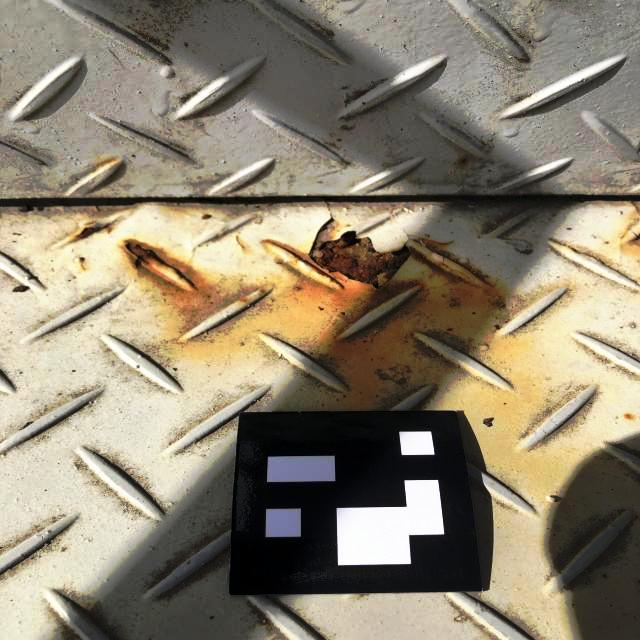Corrosion: (270, 218, 416, 292), (123, 238, 188, 270), (71, 225, 95, 240)
